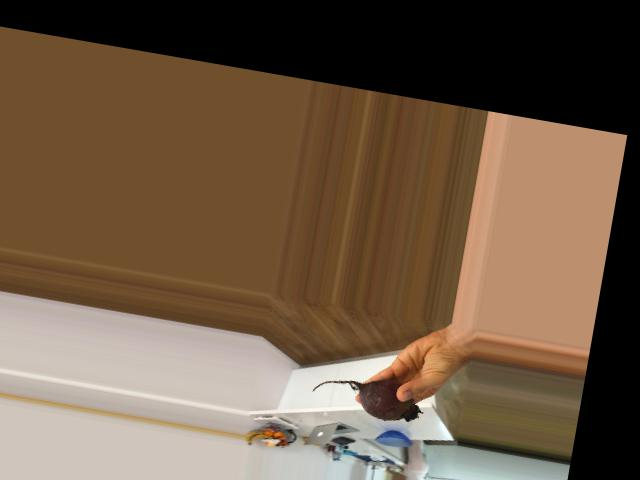beet: (309, 368, 426, 425)
